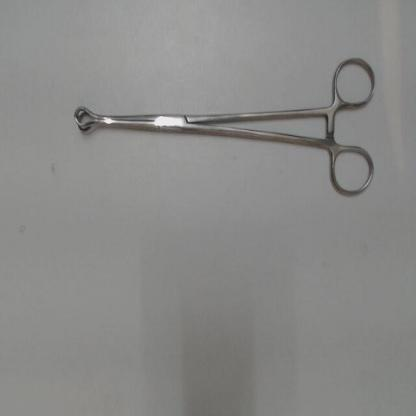8 Babcock Tissue Forceps: (69, 50, 378, 204)
